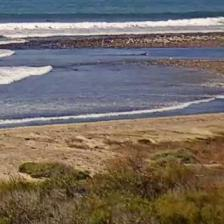surfer: (45, 19, 56, 23)
